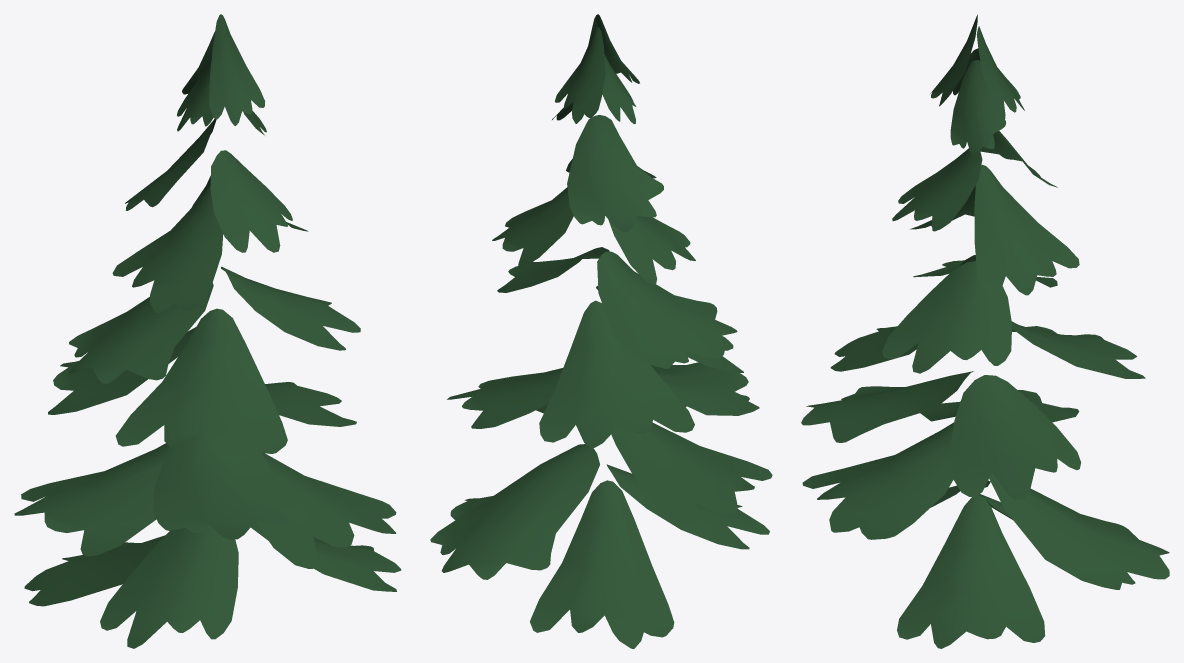
The model's file is pineLeaves1b.fbx.
3 renders of one model, left to right at view 1: azimuth 30°, elevation 25°; view 2: azimuth 150°, elevation 25°; view 3: azimuth 270°, elevation 25°, orthographic. The views are drawn at different scales.
Visible parts, largest first — view 1: pine1PolyLeaf_LOD0; view 2: pine1PolyLeaf_LOD0; view 3: pine1PolyLeaf_LOD0.
Boxes of the visible parts, box(x1,y1,x2,y2) form: pine1PolyLeaf_LOD0: box(14, 14, 401, 648); pine1PolyLeaf_LOD0: box(430, 14, 772, 648); pine1PolyLeaf_LOD0: box(801, 14, 1169, 648).
Size of what is drawn, in the model's own units: 115 by 195 by 112.
